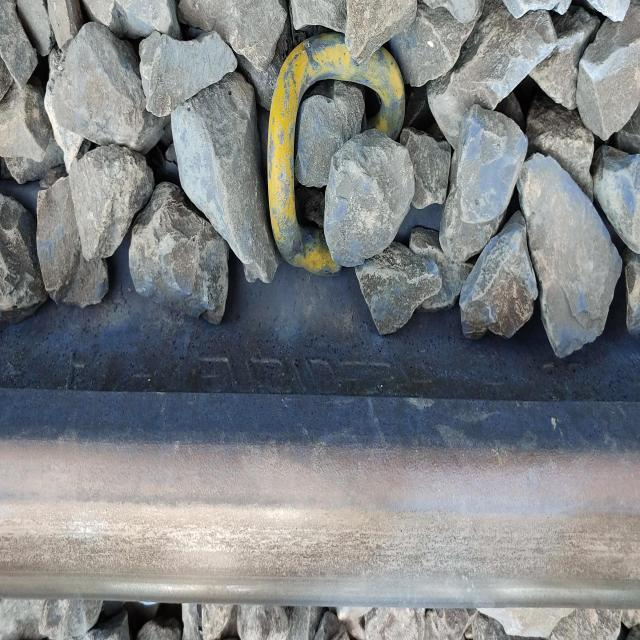Good Fasteners: (261, 26, 412, 280)
